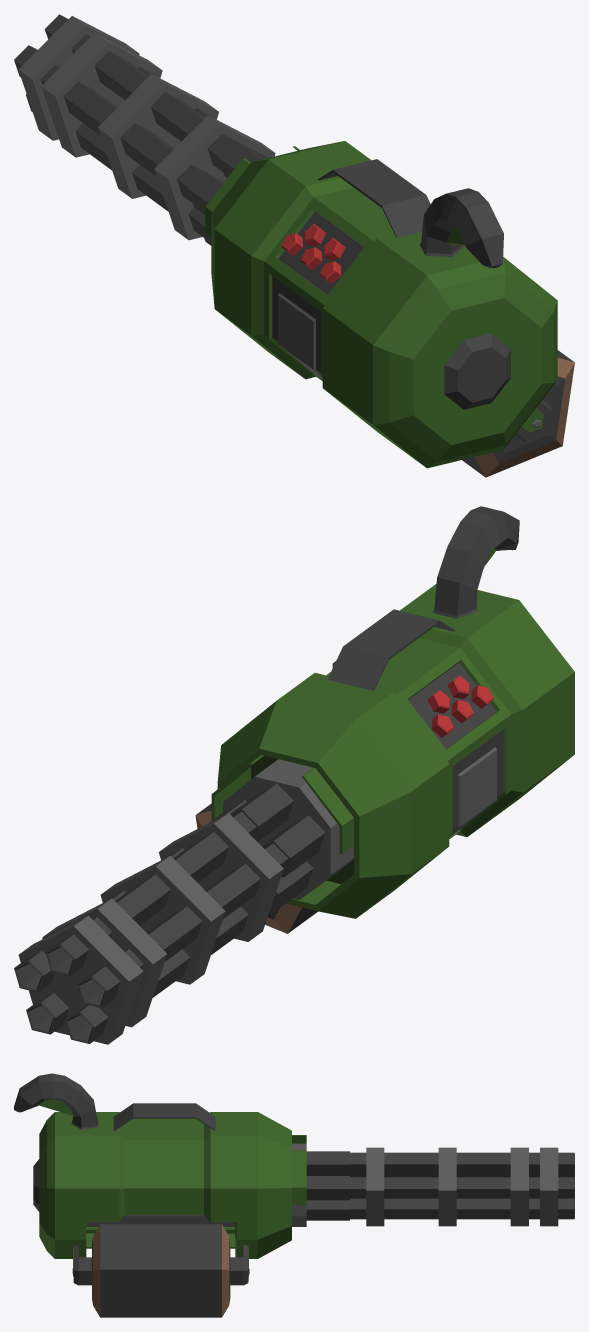
Rendered from Miniarm.glb.
3 renders of one model, top to bottom at view 1: azimuth 30°, elevation 25°; view 2: azimuth 150°, elevation 25°; view 3: azimuth 270°, elevation 25°, orthographic. The views are drawn at different scales.
Visible parts, largest first — view 1: Base, Barrel, Magazine; view 2: Base, Barrel, Magazine; view 3: Base, Barrel, Magazine.
Part boxes in pixels (x1,y1,x2,y2): Base: (205, 141, 557, 468); Barrel: (14, 14, 275, 245); Magazine: (462, 350, 574, 477); Base: (211, 506, 574, 918); Barrel: (14, 759, 353, 1044); Magazine: (195, 803, 317, 933); Base: (14, 1073, 306, 1285); Barrel: (86, 1143, 574, 1226); Magazine: (92, 1224, 230, 1317).
Bounding box in the file's own units: 0.3309 × 0.4322 × 1.06.
